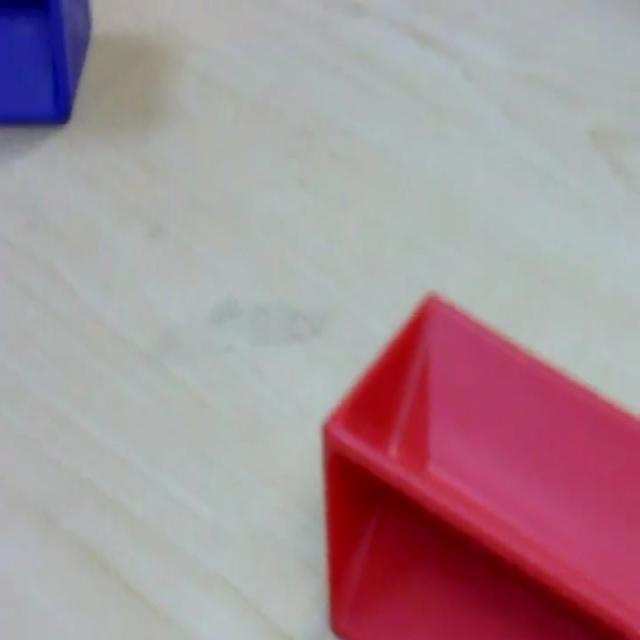red_block: (321, 288, 638, 637)
